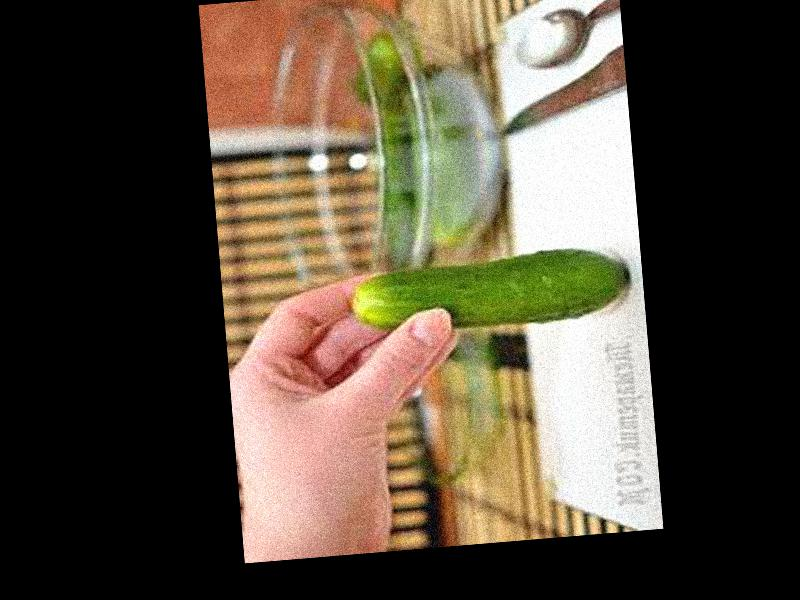Cucumber: (349, 244, 629, 337)
